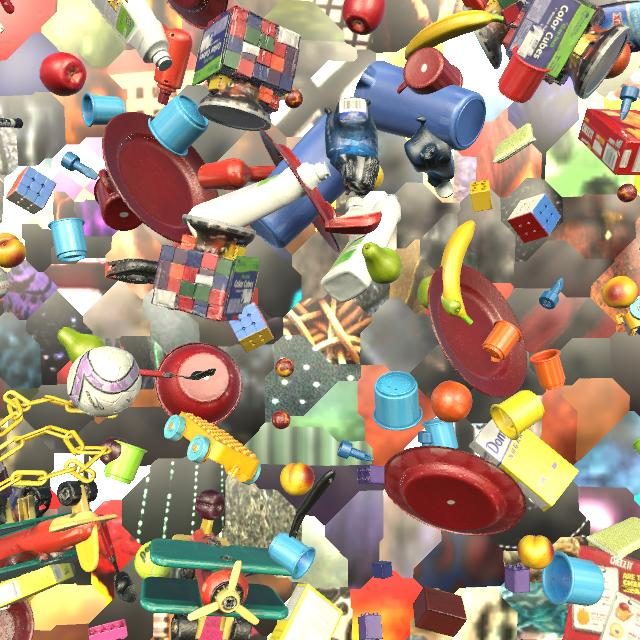ycb_003_cracker_box: (563, 545, 640, 640), (578, 108, 640, 175)
ycb_004_sugar_box: (469, 419, 579, 512), (269, 583, 344, 640), (0, 563, 74, 609)
ycb_010_potted_meat_can: (9, 485, 26, 522)
ycb_011_banana: (404, 10, 504, 60), (440, 220, 475, 326)
ycb_013_apple: (39, 52, 87, 96), (343, 0, 385, 35)
ycb_014_lemon: (373, 166, 384, 190)
ycb_015_peach: (517, 535, 554, 569), (602, 276, 639, 309), (280, 463, 314, 496), (0, 233, 26, 268)
ycb_016_pear: (417, 275, 461, 316), (57, 327, 106, 363), (362, 242, 402, 284)
ycb_017_orange: (431, 381, 472, 423), (605, 43, 631, 79)
ycb_018_plum: (195, 489, 225, 520), (99, 437, 129, 465)
